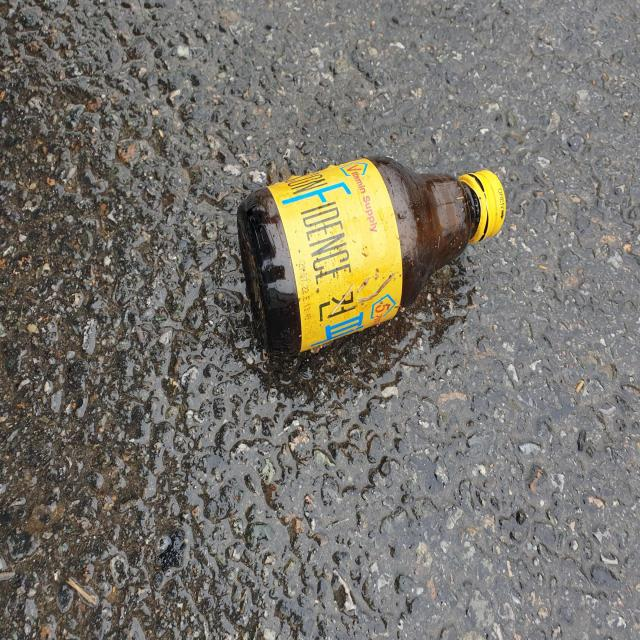glass: (237, 156, 506, 354)
